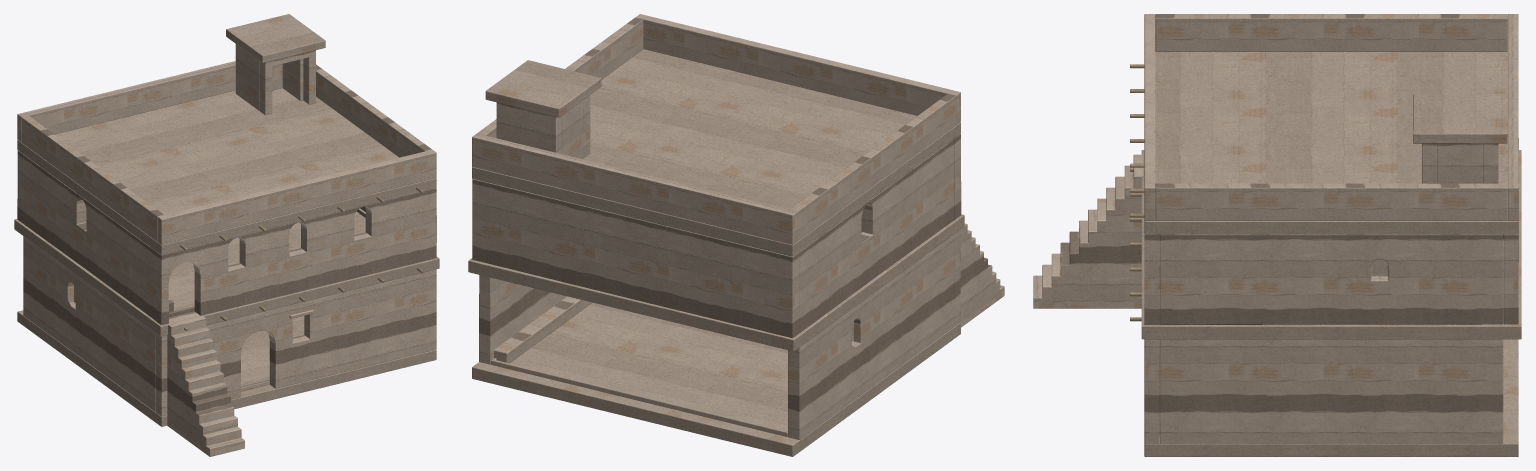
Rendered from house_9.glb.
The picture shows the model from 3 angles, left to right: view 1: azimuth 30°, elevation 25°; view 2: azimuth 150°, elevation 25°; view 3: azimuth 270°, elevation 25°; orthographic projection. The views are drawn at different scales.
Parts seen in each view (by area): view 1: house; view 2: house; view 3: house.
Boxes of the visible parts, box(x1,y1,x2,y2) form: house: box(14, 14, 439, 456); house: box(468, 14, 1004, 456); house: box(1033, 14, 1521, 456).
Size of the model in its own units: 11.45 by 9.63 by 13.37.
3 materials, 3 textured.
